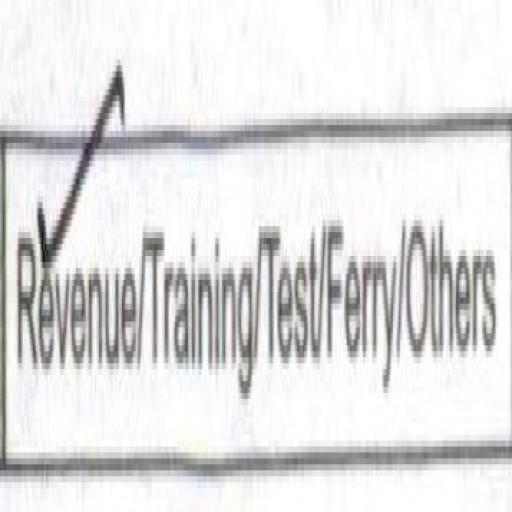check: (15, 24, 142, 512)
